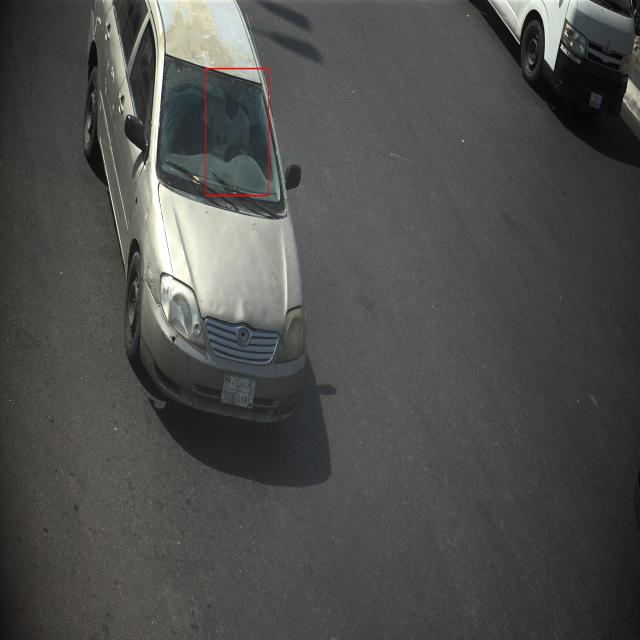windshield: (154, 48, 288, 213)
